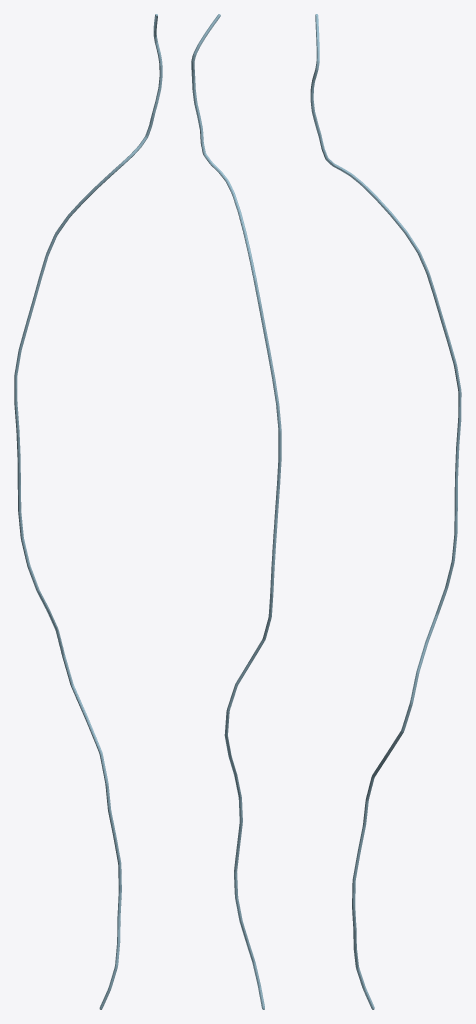
File: articulacoes-intertransverse-ligaments-r.glb
3 renders of one model, left to right at view 1: azimuth 90°, elevation 25°; view 2: azimuth 210°, elevation 25°; view 3: azimuth 270°, elevation 25°, orthographic. The views are drawn at different scales.
Parts seen in each view (by area): view 1: Intertransverse ligaments.r; view 2: Intertransverse ligaments.r; view 3: Intertransverse ligaments.r.
Part boxes in pixels (<box>): Intertransverse ligaments.r: <box>14,14,162,1009</box>; Intertransverse ligaments.r: <box>191,14,281,1009</box>; Intertransverse ligaments.r: <box>310,14,461,1009</box>.
Size of the model in its own units: 0.0343 by 0.565 by 0.077.
